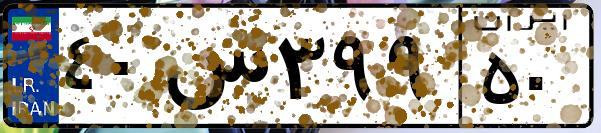0: (525, 38, 570, 115), (110, 28, 158, 98)
3: (270, 28, 330, 110)
4: (57, 26, 110, 100)
5: (475, 38, 525, 113)
9: (385, 28, 445, 110), (330, 28, 385, 110)
س: (158, 20, 270, 120)
